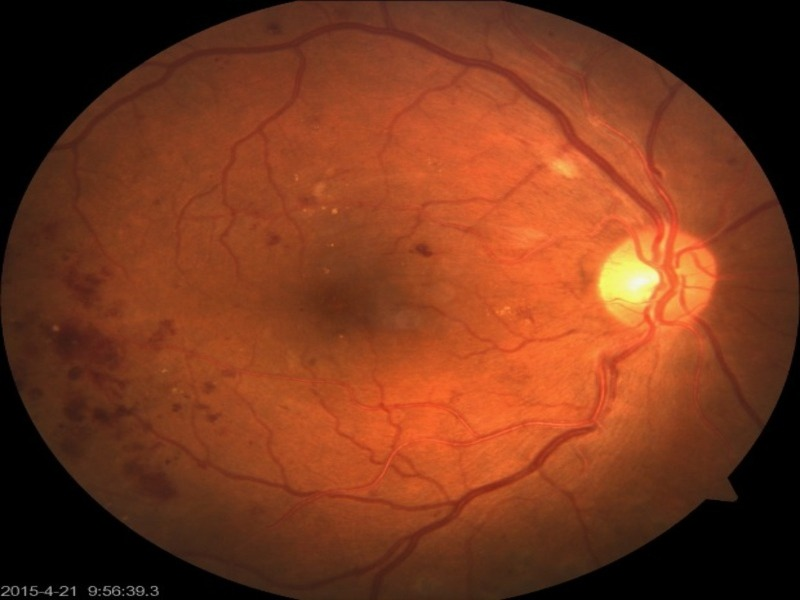Optic Cup: (600, 247, 658, 302)
Optic Disc: (602, 224, 717, 320)
